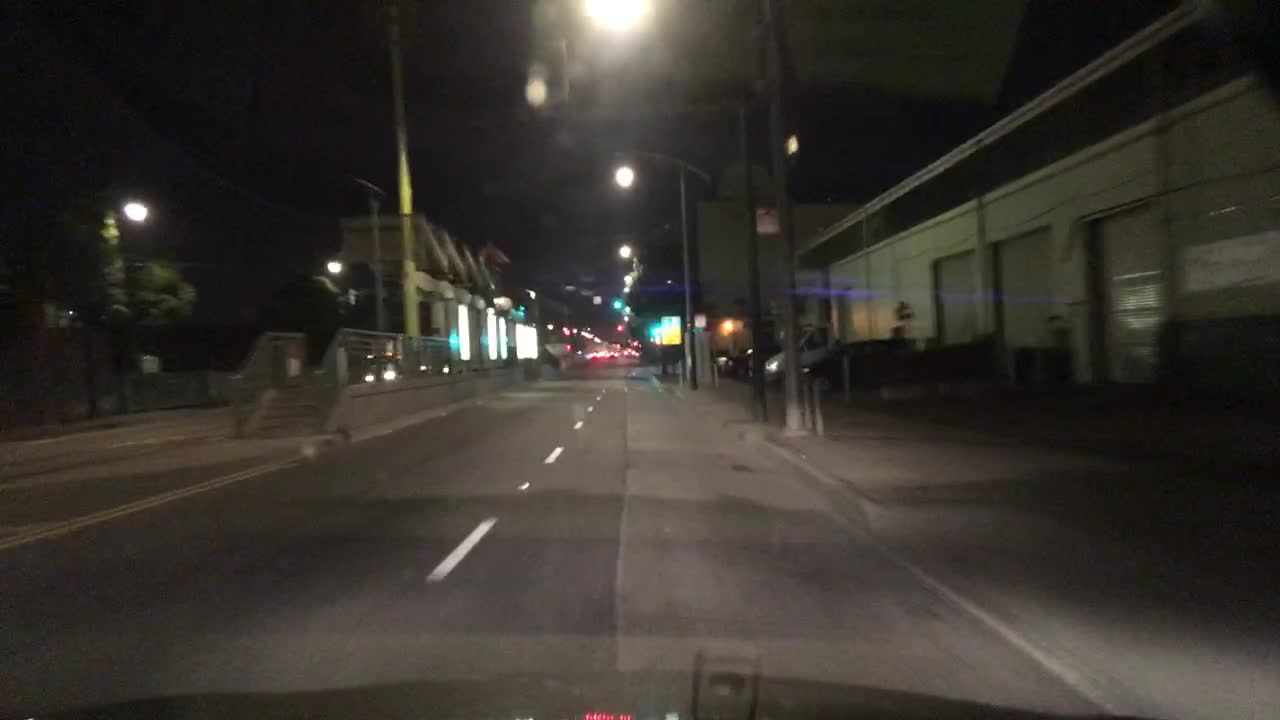car: (763, 323, 839, 378), (716, 346, 747, 377), (363, 360, 400, 382), (418, 357, 448, 373), (604, 351, 618, 358), (625, 348, 637, 354), (599, 350, 607, 358), (589, 351, 596, 360)
traffic light: (449, 333, 459, 348), (652, 323, 658, 337), (614, 298, 620, 312), (518, 305, 526, 315), (564, 327, 572, 336), (565, 341, 572, 350), (617, 322, 623, 331)
traffic sign: (757, 207, 779, 235), (660, 317, 681, 344), (694, 312, 705, 325)
